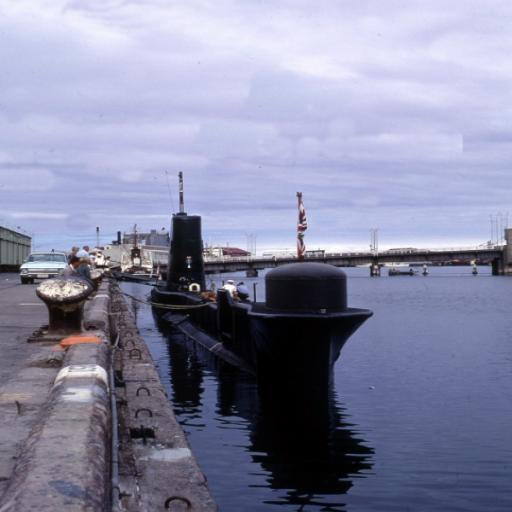submarine: (150, 209, 375, 394)
